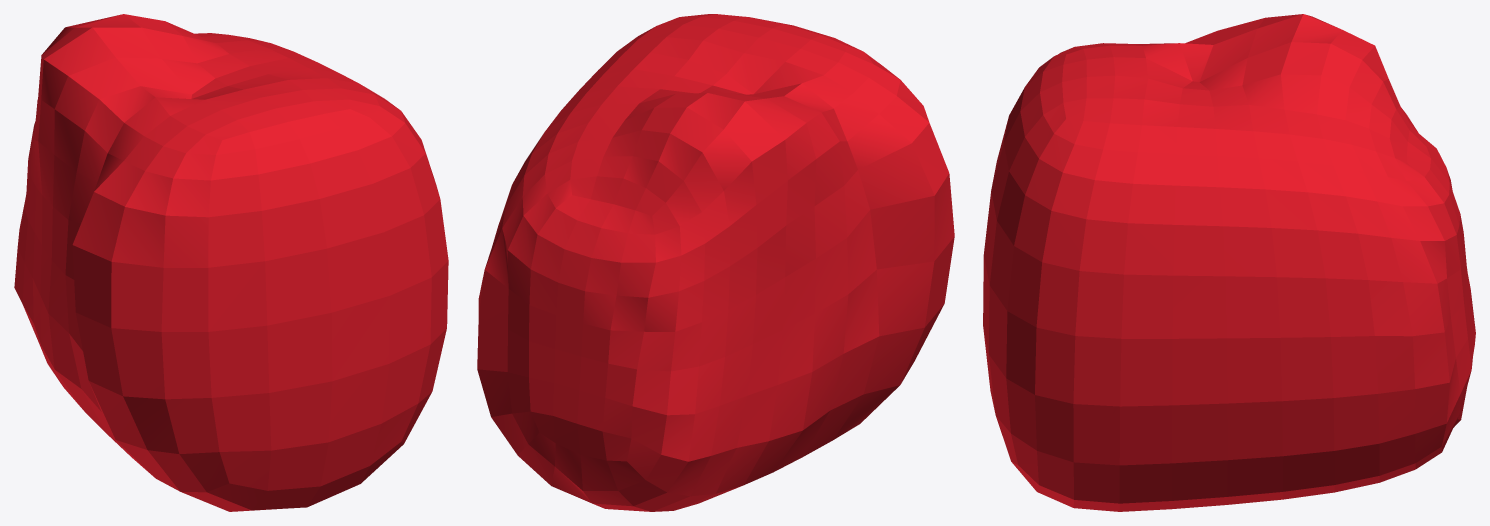
The model's file is left-hand.glb.
3 views of the same model, side by side, from view 1: azimuth 30°, elevation 25°; view 2: azimuth 150°, elevation 25°; view 3: azimuth 270°, elevation 25° (orthographic). The views are drawn at different scales.
Parts seen in each view (by area): view 1: Cube.001; view 2: Cube.001; view 3: Cube.001.
Boxes of the visible parts, x1,y1,x2,y2 form: Cube.001: (14, 14, 448, 511); Cube.001: (477, 14, 954, 511); Cube.001: (983, 14, 1475, 511).
Bounding box in the file's own units: 1.98 × 2.29 × 2.35.
